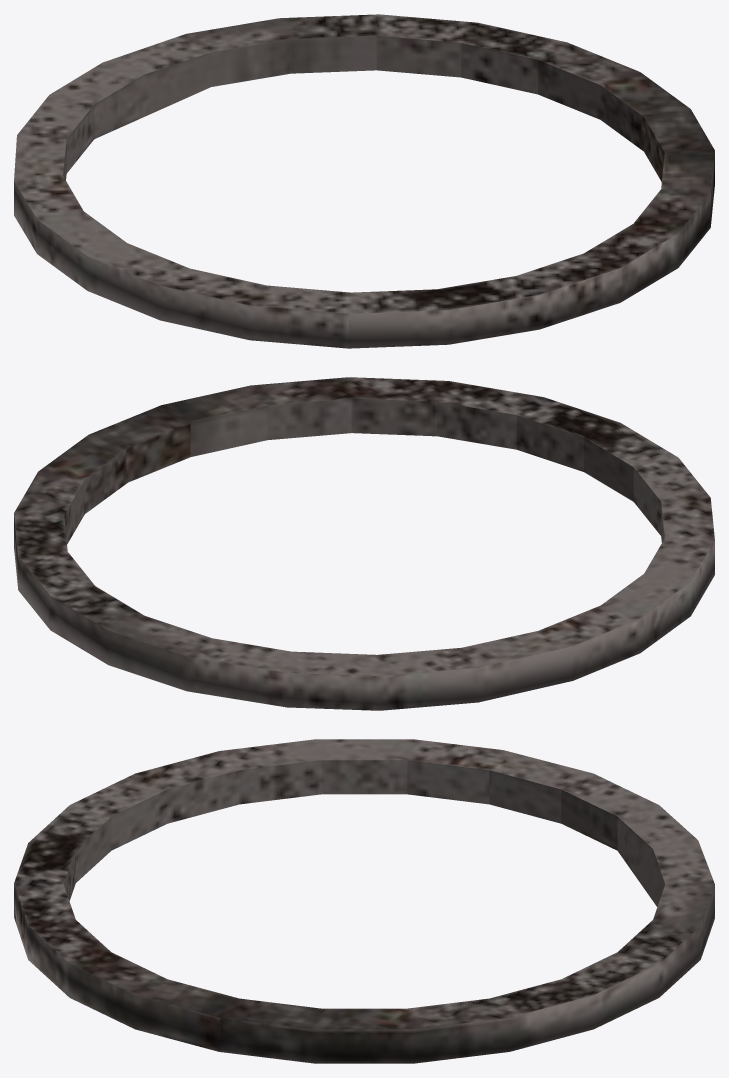
Rendered from item3.fbx.
The picture shows the model from 3 angles, top to bottom: view 1: azimuth 30°, elevation 25°; view 2: azimuth 150°, elevation 25°; view 3: azimuth 270°, elevation 25°; orthographic projection.
Visible parts, largest first — view 1: Item3; view 2: Item3; view 3: Item3.
Part boxes in pixels (x1,y1,x2,y2): Item3: [14, 14, 714, 348]; Item3: [14, 377, 714, 710]; Item3: [14, 739, 714, 1063].
Size of the model in its own units: 169 by 9.27 by 172.
